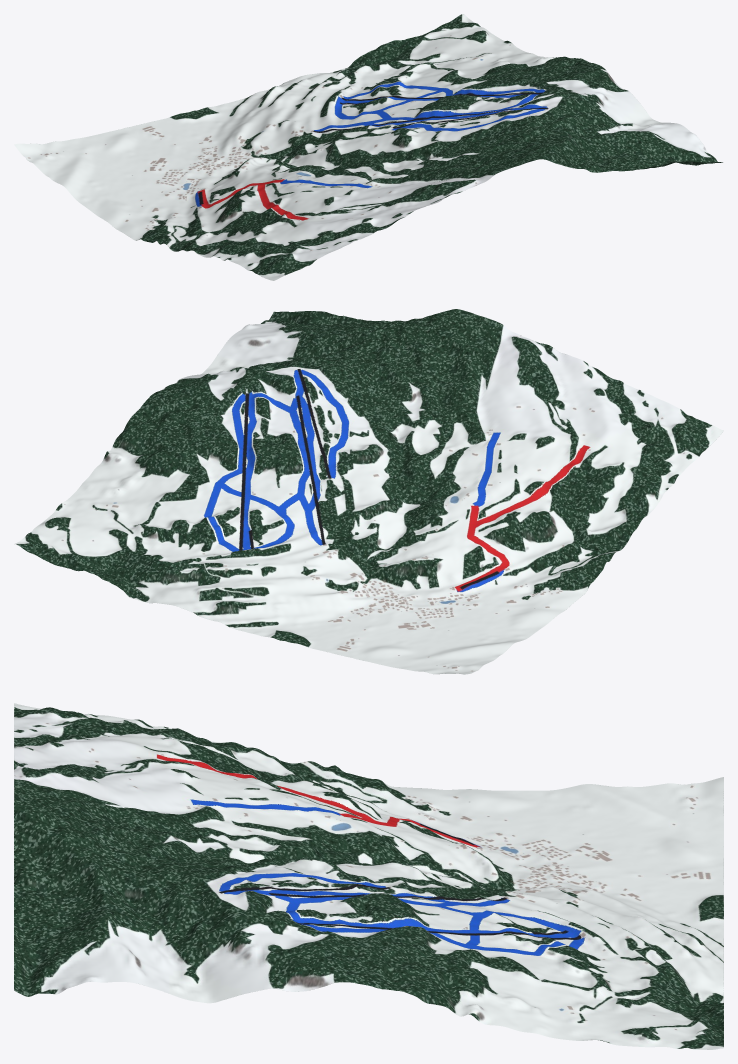
3 views of the same model, one above another, from view 1: azimuth 30°, elevation 25°; view 2: azimuth 150°, elevation 25°; view 3: azimuth 270°, elevation 25° (orthographic). The views are drawn at different scales.
Parts seen in each view (by area): view 1: D3_Adelharz_Breitenstein.glb; view 2: D3_Adelharz_Breitenstein.glb; view 3: D3_Adelharz_Breitenstein.glb.
Part boxes in pixels (bbox=[...]): D3_Adelharz_Breitenstein.glb: bbox=[14, 14, 722, 280]; D3_Adelharz_Breitenstein.glb: bbox=[14, 309, 723, 674]; D3_Adelharz_Breitenstein.glb: bbox=[14, 703, 723, 1049].
Bounding box in the file's own units: 2934 × 758 × 2934.
Materials: 1 (1 with a texture image).
